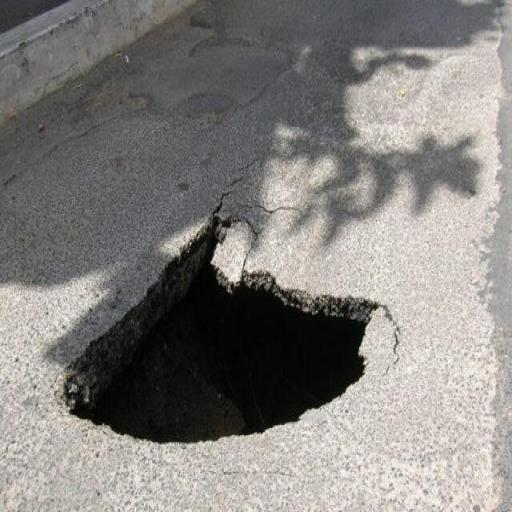Concentric_Crack: (64, 214, 377, 441)
